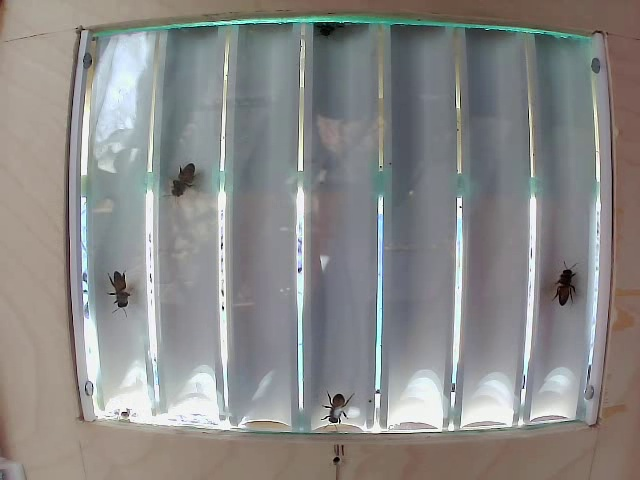bee: (163, 147, 208, 219), (91, 267, 136, 310), (548, 258, 581, 295), (324, 395, 353, 427)
